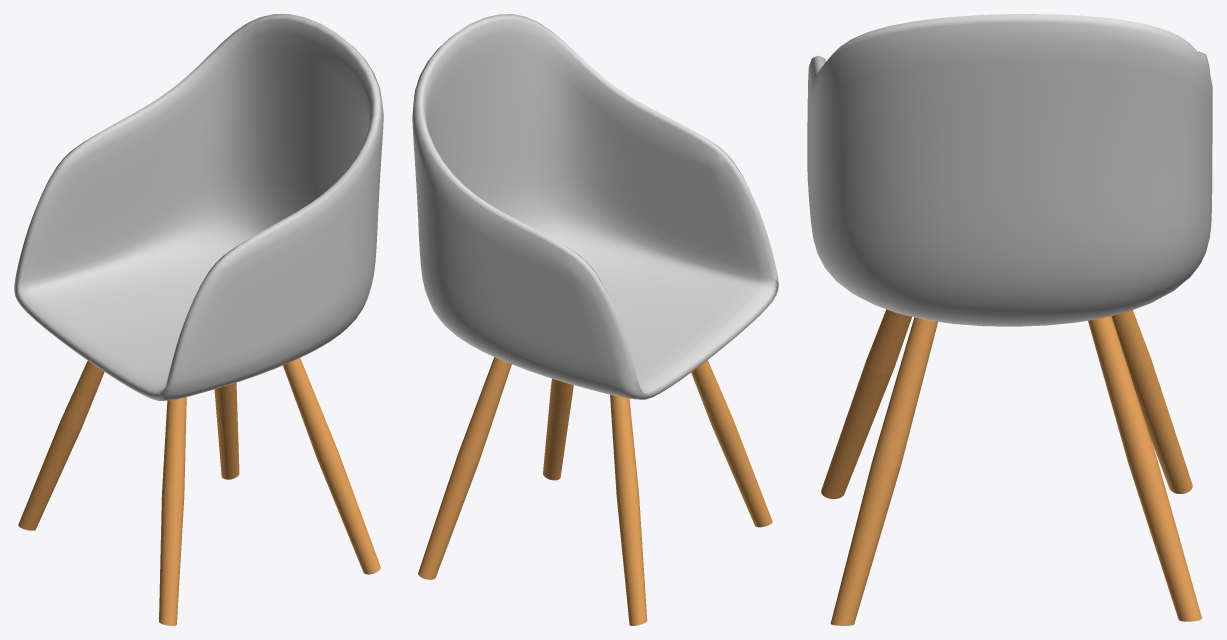
The model's file is Cocina.fbx.
3 views of the same model, side by side, from view 1: azimuth 30°, elevation 25°; view 2: azimuth 150°, elevation 25°; view 3: azimuth 270°, elevation 25° (orthographic). The views are drawn at different scales.
Visible parts, largest first — view 1: Cilindro.024; view 2: Cilindro.024; view 3: Cilindro.024.
Part boxes in pixels (x1,y1,x2,y2): Cilindro.024: (14,14,383,625); Cilindro.024: (412,14,778,625); Cilindro.024: (807,14,1212,625).
Size of the model in its own units: 197 by 348 by 202.
